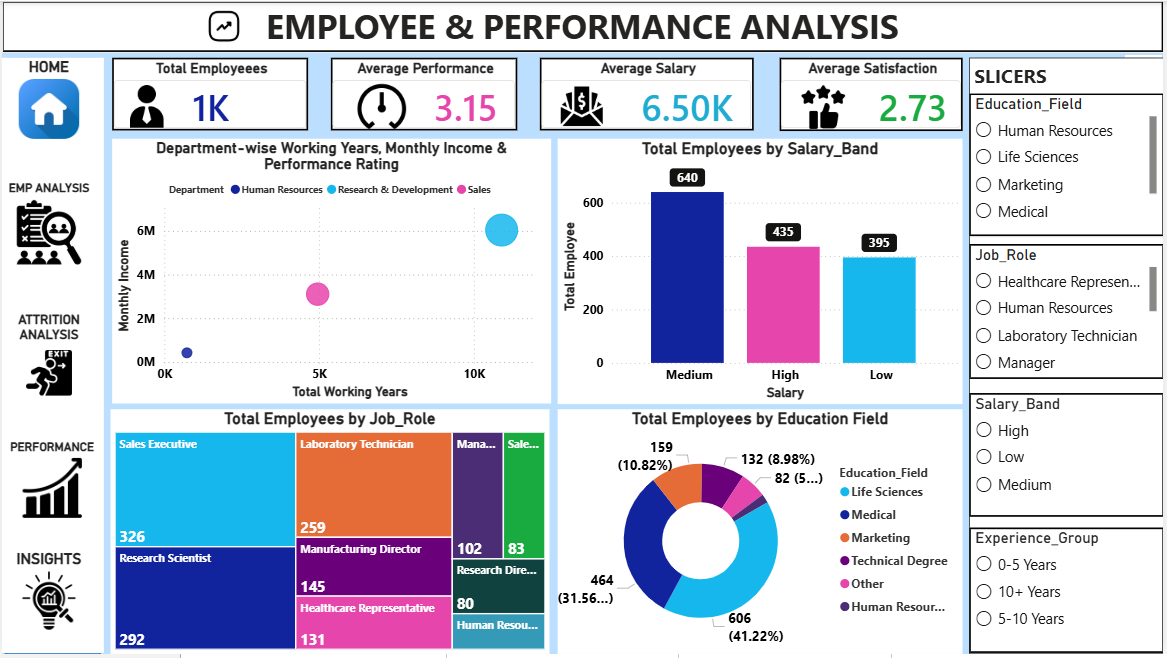

Layout of this report page (visuals, bound fields, positions):
{"tool":"powerbi","page":{"name":"Employee_Analysis","canvas":[1280,720],"ordinal":1},"visuals":[{"type":"shape","box":[0,0,1280,56.4],"z":0},{"type":"textbox","box":[0,0,1280,56.4],"z":1000},{"type":"shape","box":[1066,61.7,214.9,657.4],"z":2000},{"type":"textbox","box":[1066,61.7,214.9,657.4],"z":3000},{"type":"cardVisual","title":"Average Performance","fields":{"Data":["Cleaned_HR_Data.Avg Performance"]},"box":[362.5,62.5,205.4,80.4],"z":4000},{"type":"cardVisual","title":"Average Salary","fields":{"Data":["Cleaned_HR_Data.Avg Salary"]},"box":[592.9,62.5,235.7,80.4],"z":5000},{"type":"cardVisual","title":"Average Satisfaction","fields":{"Data":["Cleaned_HR_Data.Avg Satisfaction"]},"box":[857.4,61.7,202.1,80.9],"z":6000},{"type":"cardVisual","title":"Total Employeees","fields":{"Data":["Cleaned_HR_Data.Total Employees"]},"box":[121.4,62.5,216.1,80.4],"z":7000},{"type":"scatterChart","title":"Department-wise Working Years, Monthly Income & Performance Rating","fields":{"X":["Sum(Cleaned_HR_Data.Total_Working_Years)"],"Y":["Sum(Cleaned_HR_Data.Monthly_Income)"],"Series":["Cleaned_HR_Data.Department"],"Size":["Sum(Cleaned_HR_Data.Performance_Rating)"]},"box":[121.4,151.8,484,292],"z":8000},{"type":"donutChart","title":"Total Employees by Education Field","fields":{"Category":["Cleaned_HR_Data.Education_Field"],"Y":["Cleaned_HR_Data.Total Employees"]},"box":[612.6,450,446.5,269.7],"z":9000},{"type":"treemap","fields":{"Group":["Cleaned_HR_Data.Job_Role"],"Values":["Cleaned_HR_Data.Total Employees"]},"box":[119.7,450,484,269.7],"z":10000},{"type":"listSlicer","fields":{"Values":["Cleaned_HR_Data.Education_Field"]},"box":[1066,102.1,214.9,157.4],"z":11000},{"type":"listSlicer","fields":{"Values":["Cleaned_HR_Data.Experience_Group "]},"box":[1066,580.9,214.9,138.3],"z":12000},{"type":"listSlicer","fields":{"Values":["Cleaned_HR_Data.Job_Role"]},"box":[1066,268.1,214.9,148.9],"z":13000},{"type":"clusteredColumnChart","fields":{"Category":["Cleaned_HR_Data.Salary_Band"],"Y":["Cleaned_HR_Data.Total Employees"]},"box":[612.6,151.8,446.5,292.9],"z":14000},{"type":"listSlicer","fields":{"Values":["Cleaned_HR_Data.Salary_Band"]},"box":[1066,431.9,214.9,136.2],"z":15000},{"type":"shape","box":[0,61.7,112,657.4],"z":16000},{"type":"textbox","box":[0,62.5,112.5,656.2],"z":17000},{"type":"image","box":[132.2,89.3,55.4,53.6],"z":18000},{"type":"image","box":[387.5,89.3,62.5,53.6],"z":19000},{"type":"image","box":[603.6,92.9,71.4,46.4],"z":20000},{"type":"image","box":[873.3,92.9,64.3,48.2],"z":21000},{"type":"image","title":"HOME","box":[2,63.3,100,89.8],"z":22000},{"type":"image","title":"EMP ANALYSIS","box":[2,198,100,93.9],"z":23000},{"type":"image","title":"ATTRITION ANALYSIS","box":[2,342.9,100,95.9],"z":24000},{"type":"image","title":"PERFORMANCE","box":[6.1,483.7,100,85.7],"z":25000},{"type":"image","title":"INSIGHTS","box":[2,606.1,100,87.8],"z":26000},{"type":"image","box":[217.9,8.9,53.6,37.5],"z":26001}]}

Visuals, with their boxes in screenshot pixels (x1, y1, x2, y2), scaled from the page's 1280x720 canvas onto the 1167x658 screenshot:
shape: 0/0/1166/52
textbox: 0/0/1166/52
shape: 972/56/1166/657
textbox: 972/56/1166/657
"Average Performance" cardVisual: 330/57/518/131
"Average Salary" cardVisual: 541/57/755/131
"Average Satisfaction" cardVisual: 782/56/966/130
"Total Employeees" cardVisual: 111/57/308/131
"Department-wise Working Years, Monthly Income & Performance Rating" scatterChart: 111/139/552/406
"Total Employees by Education Field" donutChart: 559/411/966/657
treemap - Cleaned_HR_Data.Job_Role x Cleaned_HR_Data.Total Employees: 109/411/550/657
listSlicer - Cleaned_HR_Data.Education_Field: 972/93/1166/237
listSlicer - Cleaned_HR_Data.Experience_Group : 972/531/1166/657
listSlicer - Cleaned_HR_Data.Job_Role: 972/245/1166/381
clusteredColumnChart - Cleaned_HR_Data.Salary_Band x Cleaned_HR_Data.Total Employees: 559/139/966/406
listSlicer - Cleaned_HR_Data.Salary_Band: 972/395/1166/519
shape: 0/56/102/657
textbox: 0/57/103/657
image: 121/82/171/131
image: 353/82/410/131
image: 550/85/615/127
image: 796/85/855/129
"HOME" image: 2/58/93/140
"EMP ANALYSIS" image: 2/181/93/267
"ATTRITION ANALYSIS" image: 2/313/93/401
"PERFORMANCE" image: 6/442/97/520
"INSIGHTS" image: 2/554/93/634
image: 199/8/248/42
